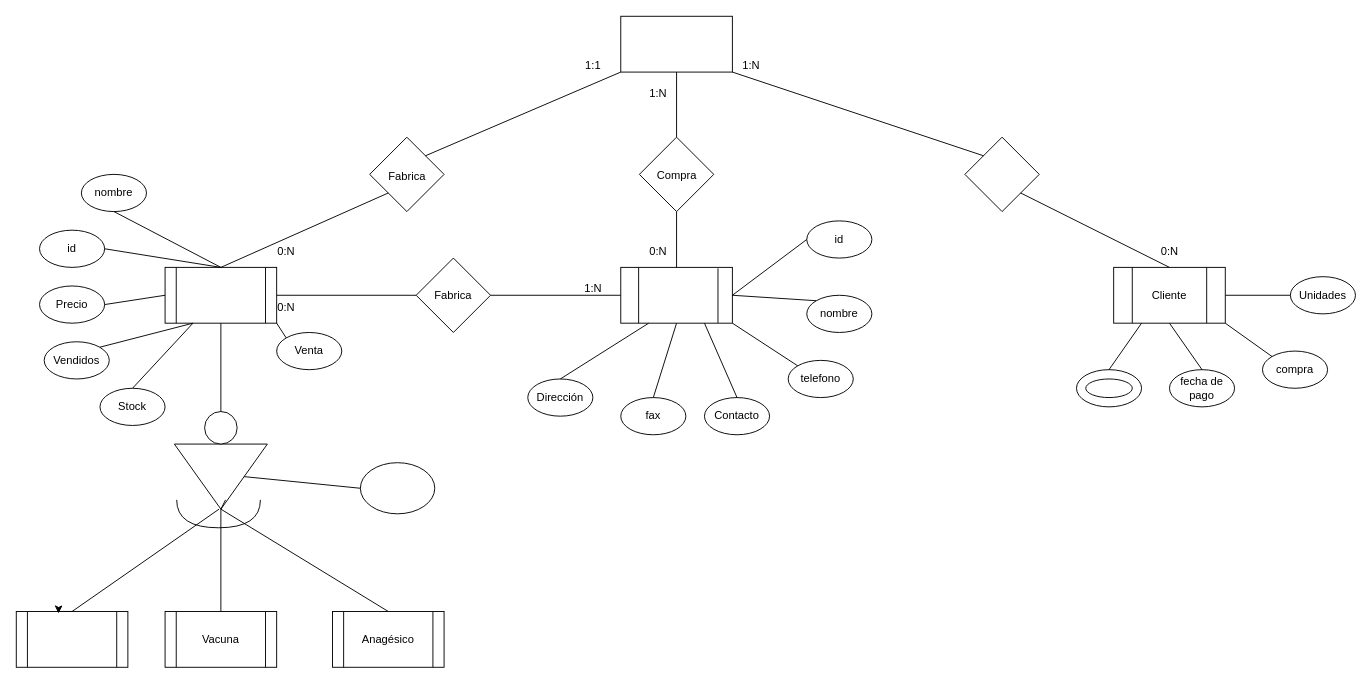
Some shapes in this 1372 by 684 pixel diagram are drawn without their labels. Here are the shapes that lost their labels. From the top down, the centre of each, then its label:
the point at 676,43: Farmacia
the point at 1001,174: Reserva
the point at 220,294: Medicina
the point at 676,294: Laboratorio
the point at 1108,388: Datos bancarios
the point at 397,488: Tipo
the point at 71,639: Antibiotico
